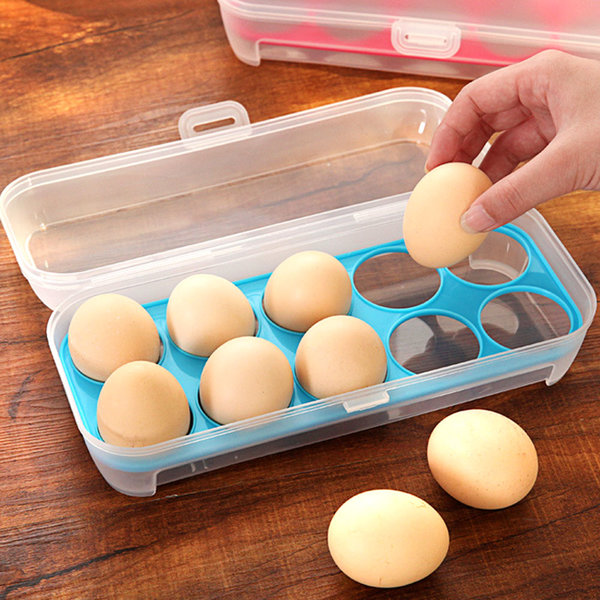egg: (68, 250, 387, 449), (327, 408, 541, 585), (403, 161, 499, 268)
